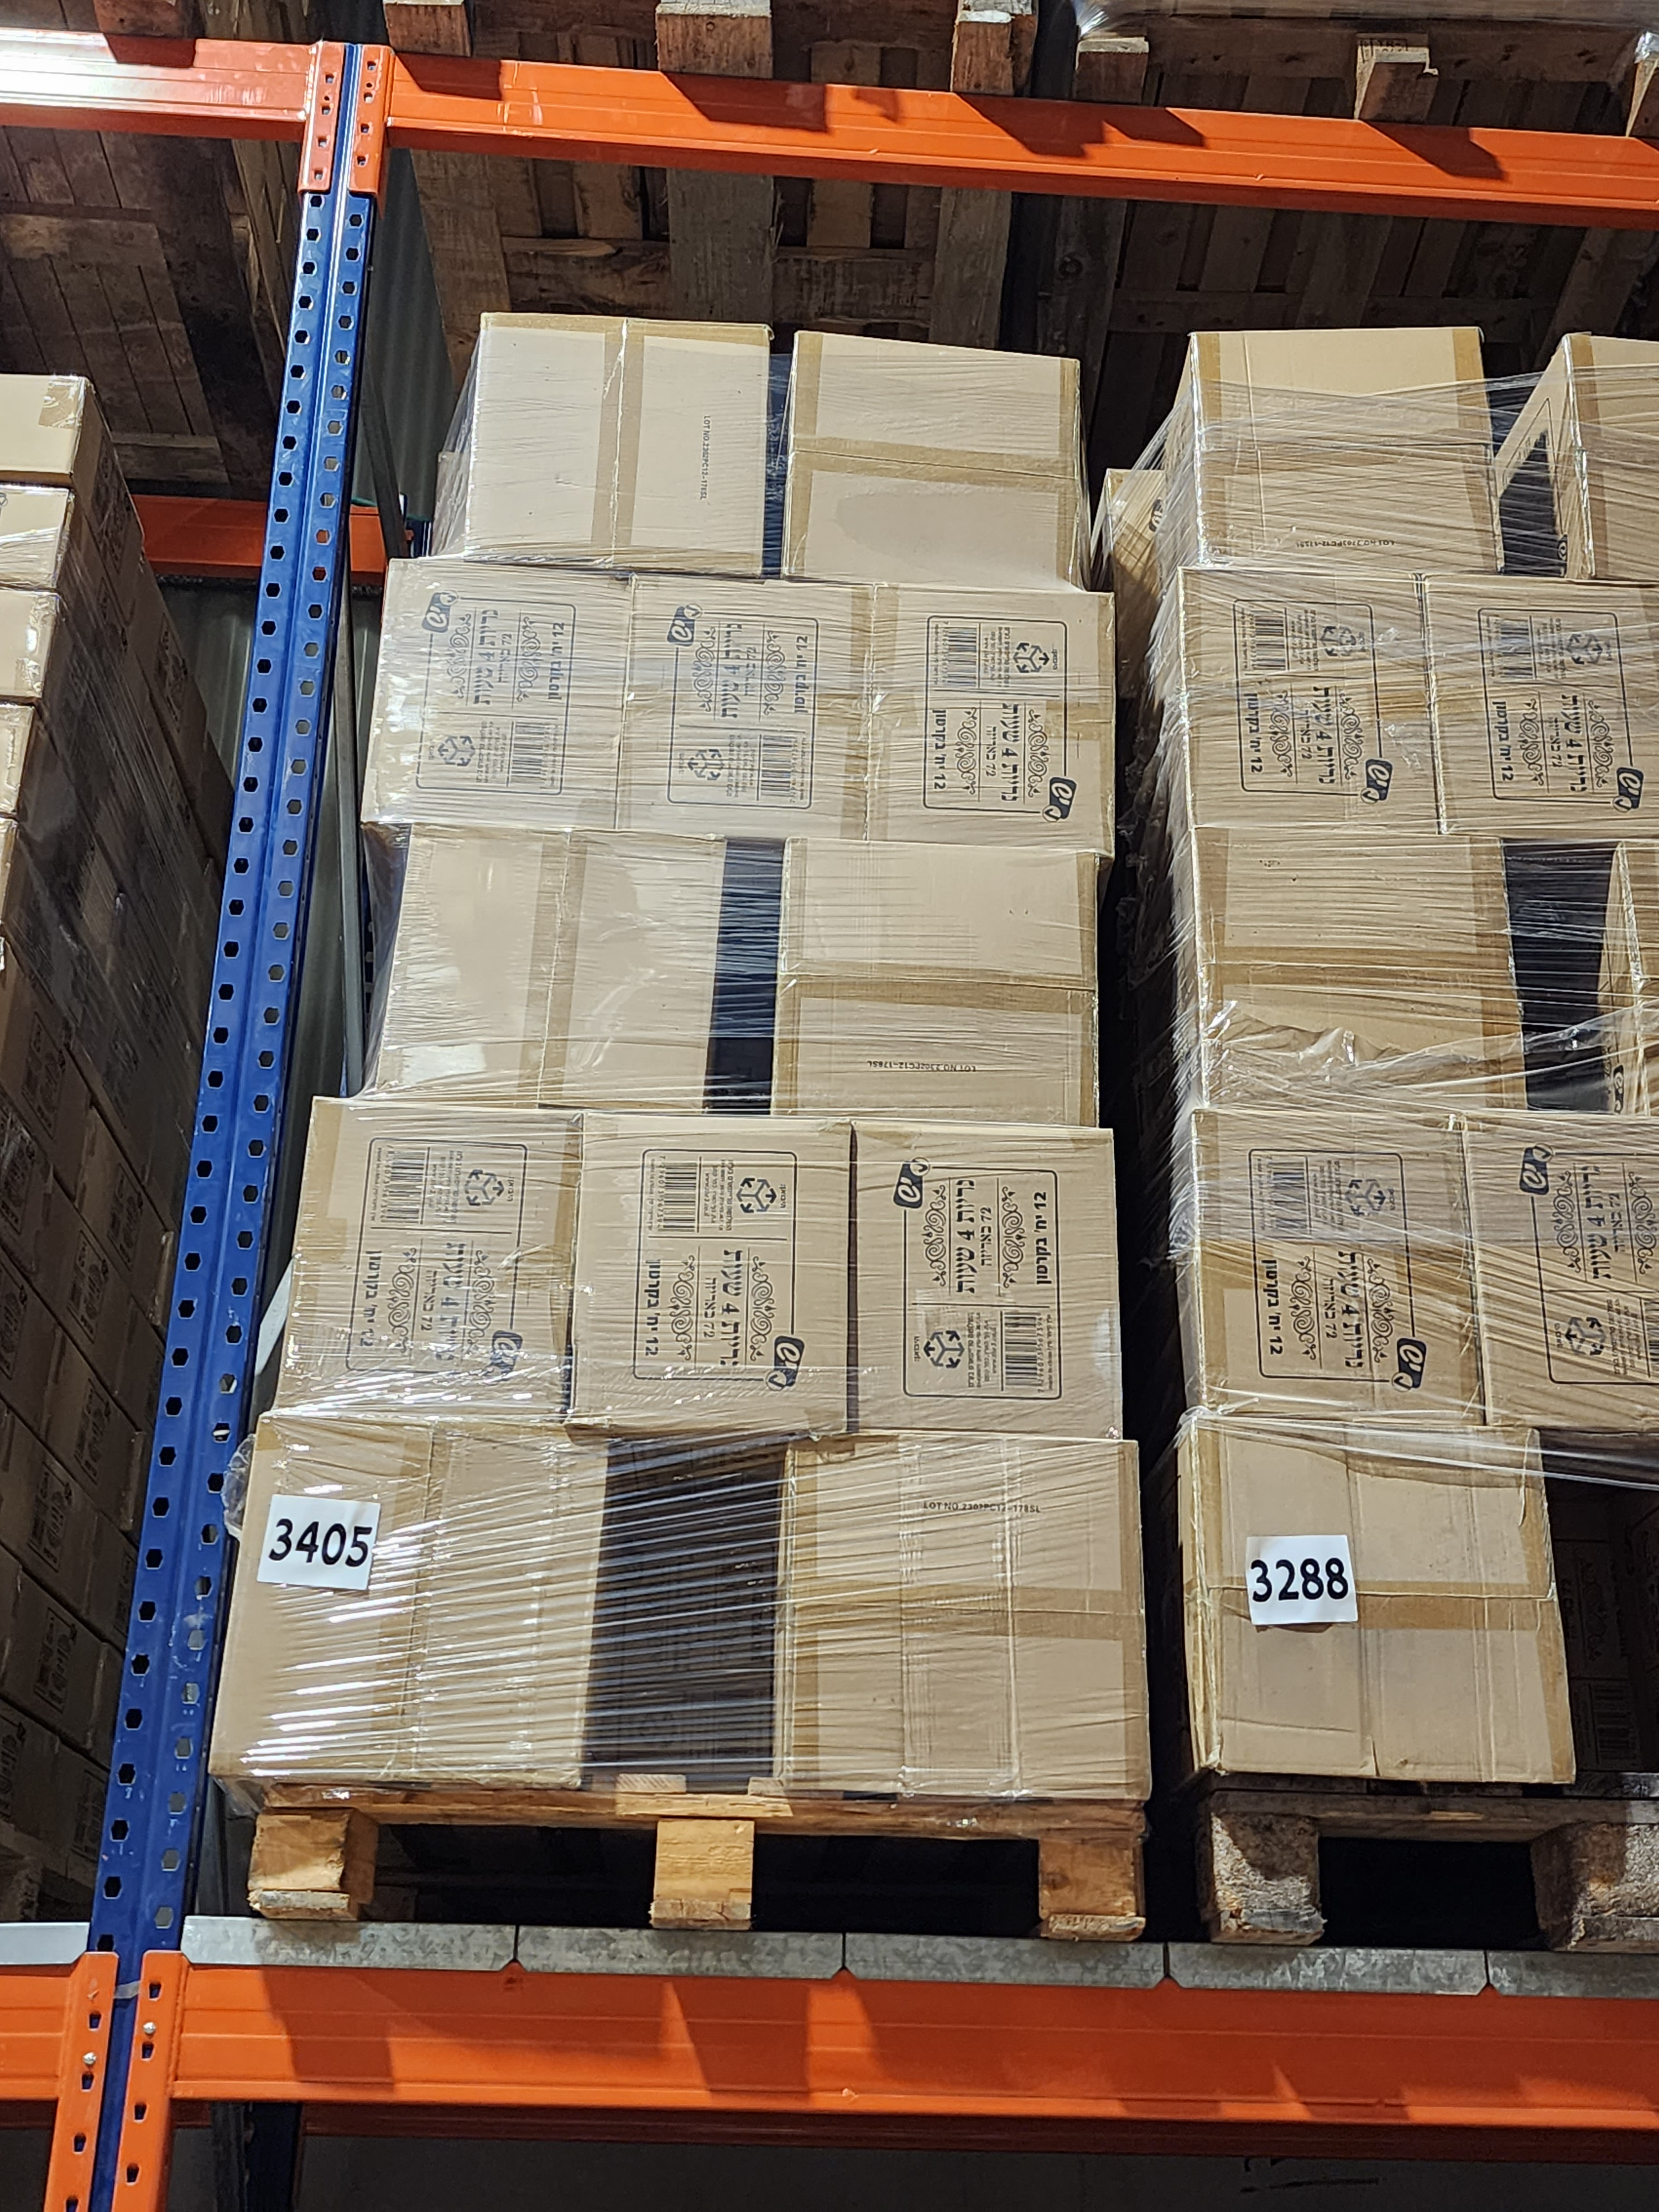box: (350, 559, 1157, 862), (1180, 1376, 1601, 1829), (216, 1372, 622, 1796), (767, 1406, 1176, 1818), (350, 810, 756, 1125), (565, 1076, 870, 1480), (749, 820, 1134, 1136), (1173, 1054, 1469, 1458), (1169, 806, 1544, 1125), (828, 1089, 1150, 1454), (434, 251, 786, 585), (279, 1080, 584, 1444), (1127, 296, 1530, 566), (782, 293, 1127, 592), (1192, 577, 1443, 829), (1413, 582, 1647, 852)
